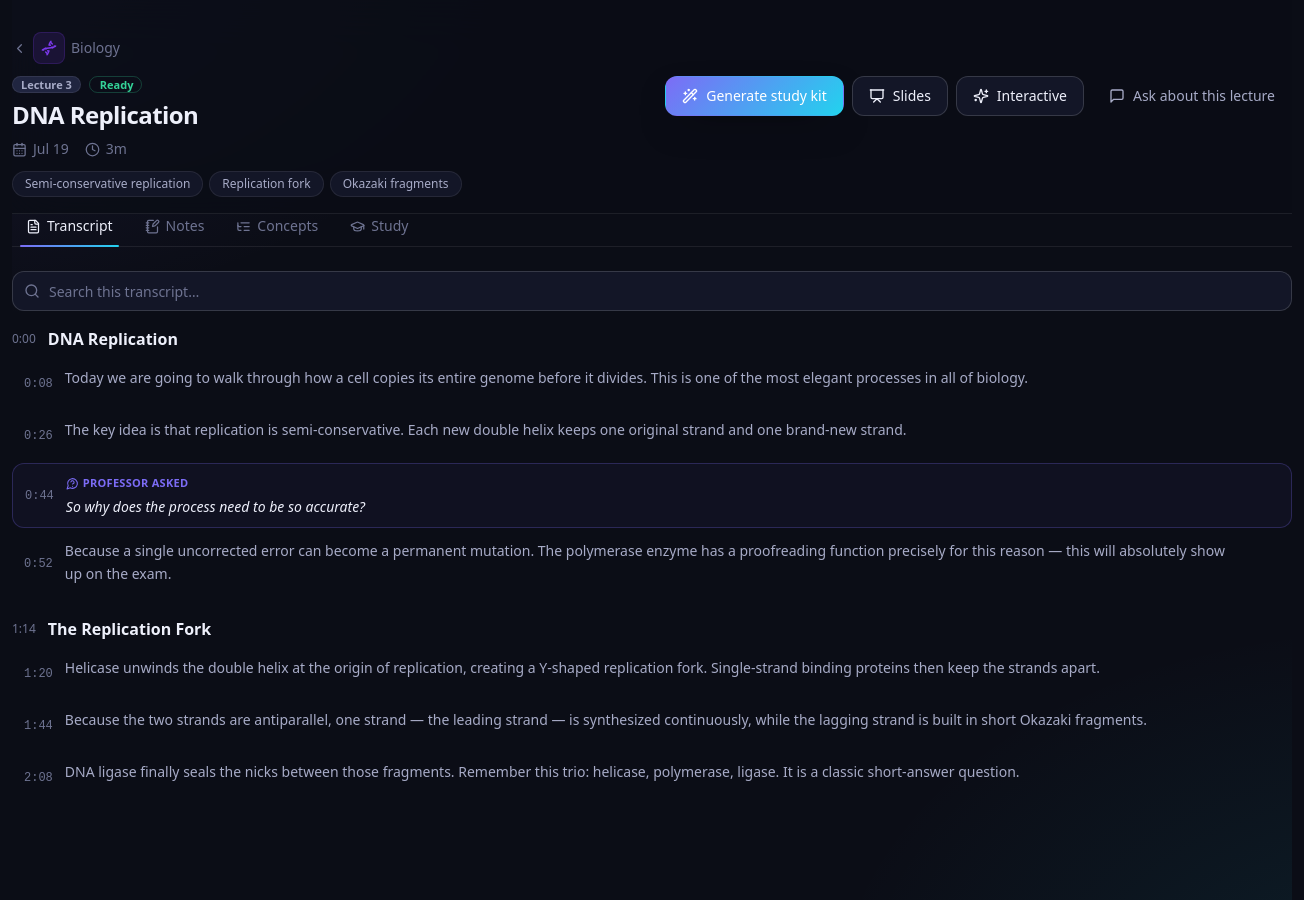
LecturePage › answers a multiple-choice question and reveals feedback
Click the tab "Study": click(379, 226) [336,206,422,246]
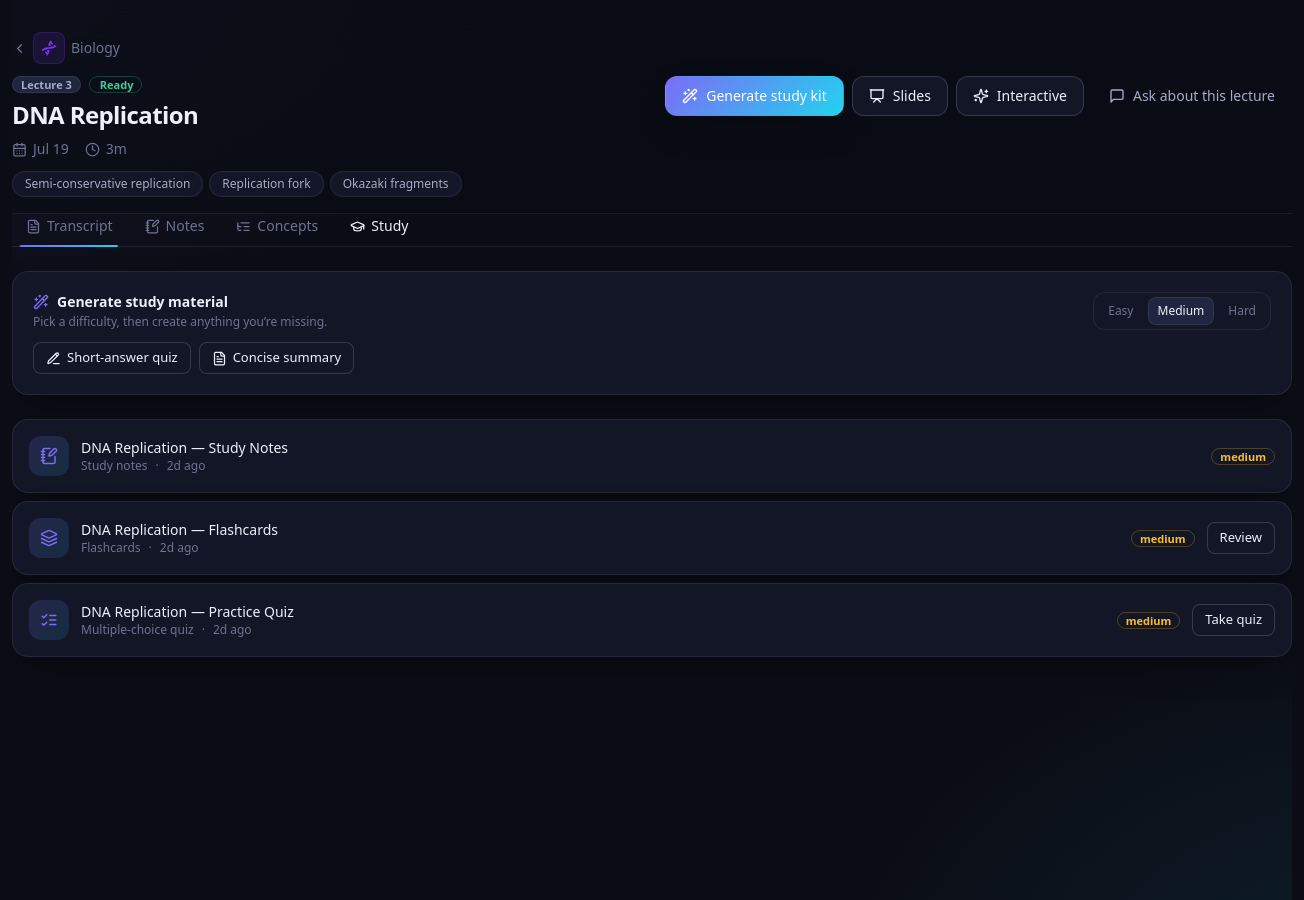
Click the button "Take quiz": click(1234, 620) [1192,604,1275,636]
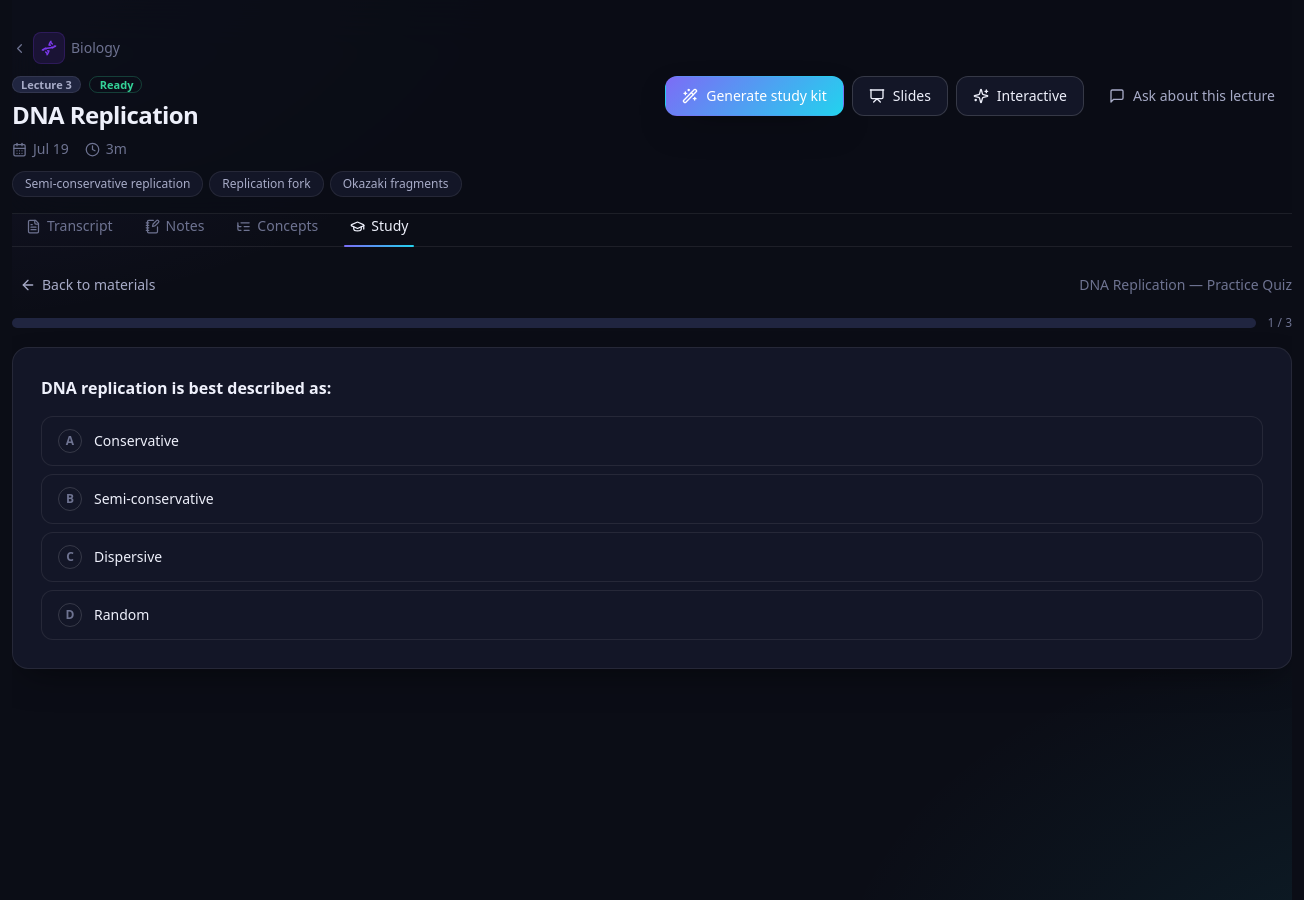
Expected: the text "DNA replication is best described as:" is shown, [41,377,331,399]
Click the button "B Semi-conservative": click(154, 498) [41,474,1263,524]
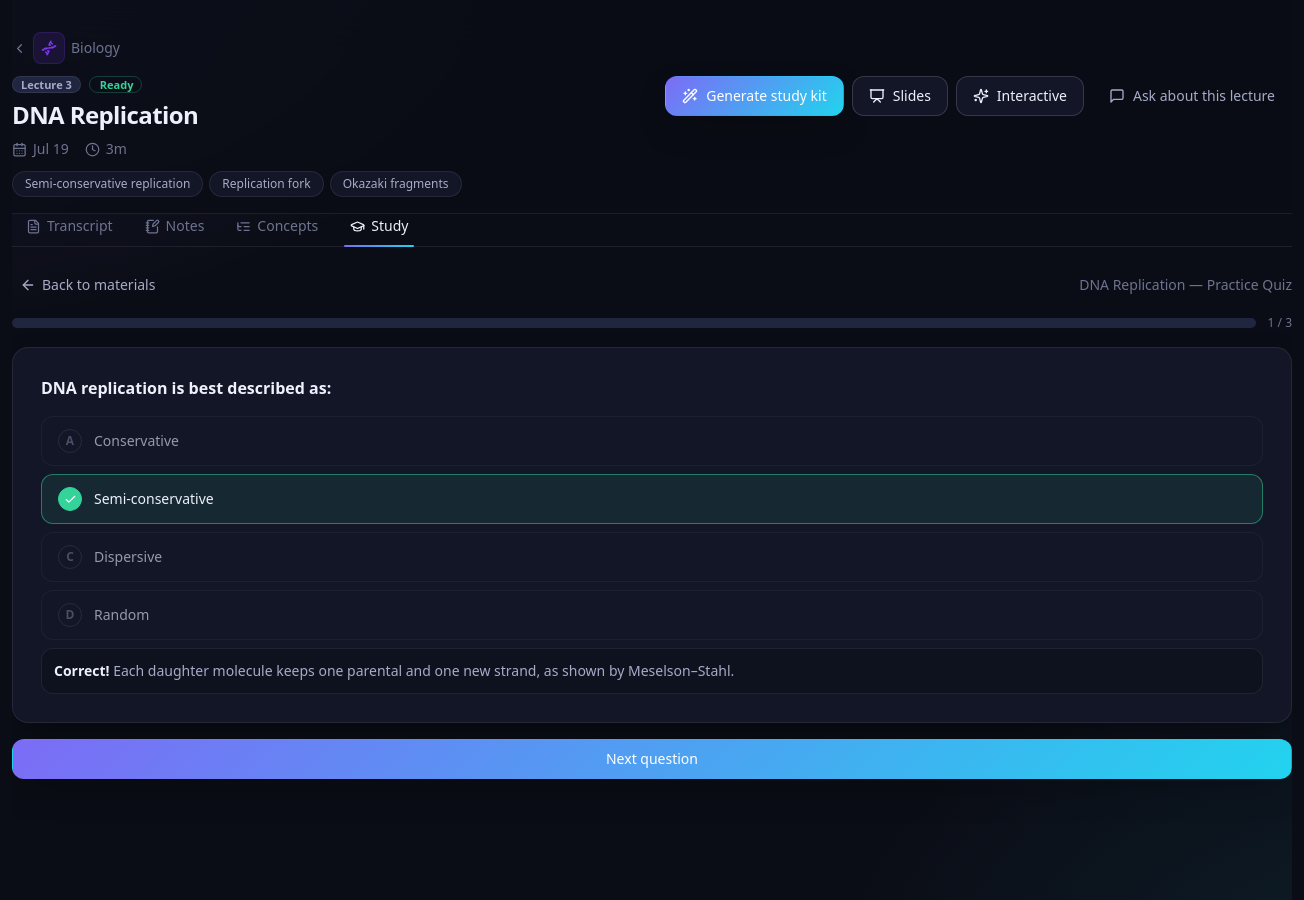
Expected: the text "Correct!" is shown, [54,661,113,680]
